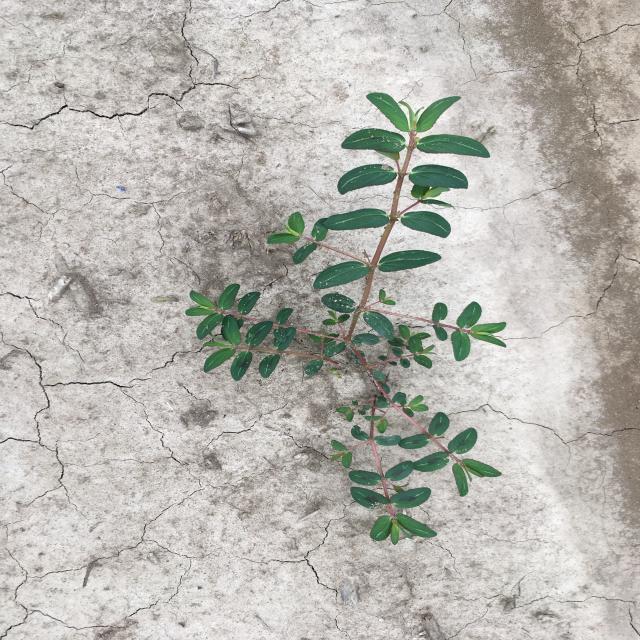SpottedSpurge: (185, 92, 507, 545)
